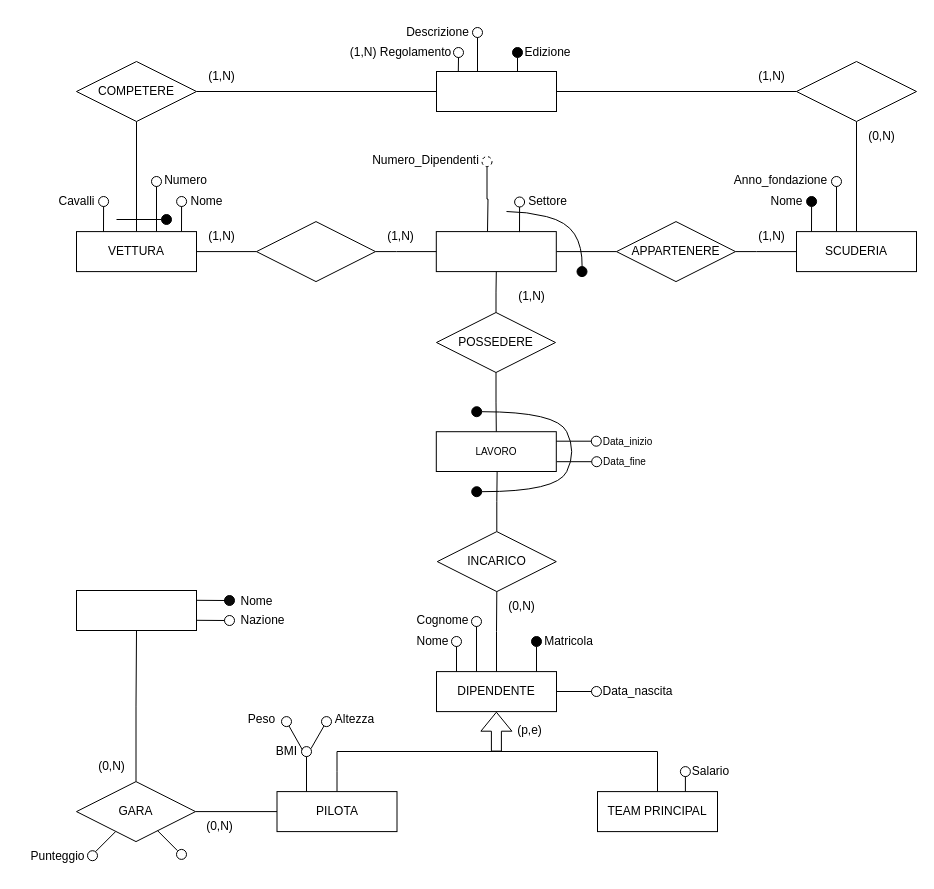
Some shapes in this 934 by 889 pixel diagram are drawn without their labels. The centre of each missing label's shape, as x and y in pixels:
CIRCUITO: point 136,610
MONDIALE: point 496,91
PARTECIPAZIONE: point 856,91
SVILUPPARE: point 316,251
TEAM: point 495,251
